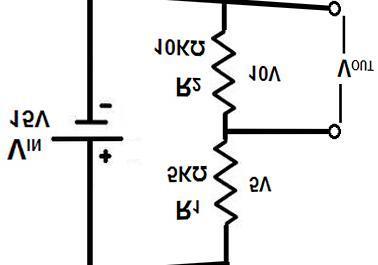resistor: (205, 137, 246, 231), (205, 21, 241, 118)
